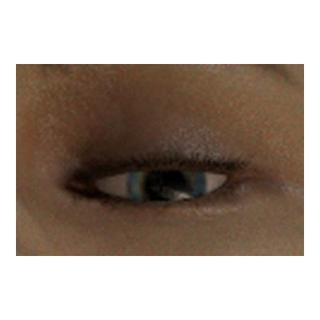pupil: (146, 166, 185, 205)
